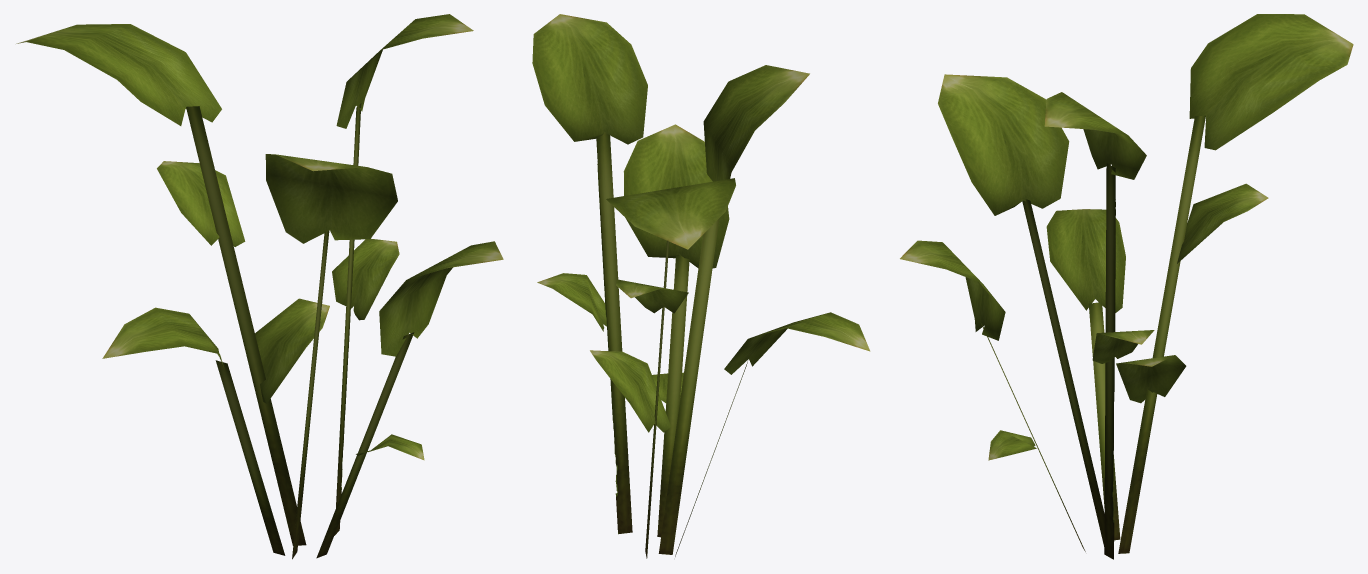
Rendered from leafplant11_lod1.fbx.
The picture shows the model from 3 angles, left to right: view 1: azimuth 30°, elevation 25°; view 2: azimuth 150°, elevation 25°; view 3: azimuth 270°, elevation 25°; orthographic projection. The views are drawn at different scales.
Visible parts, largest first — view 1: Mesh Object; view 2: Mesh Object; view 3: Mesh Object.
Part boxes in pixels (x1=…): Mesh Object: x1=16, y1=14, x2=503, y2=559; Mesh Object: x1=532, y1=14, x2=870, y2=558; Mesh Object: x1=900, y1=14, x2=1353, y2=559.
Bounding box in the file's own units: 1.02 × 1.43 × 1.19.
